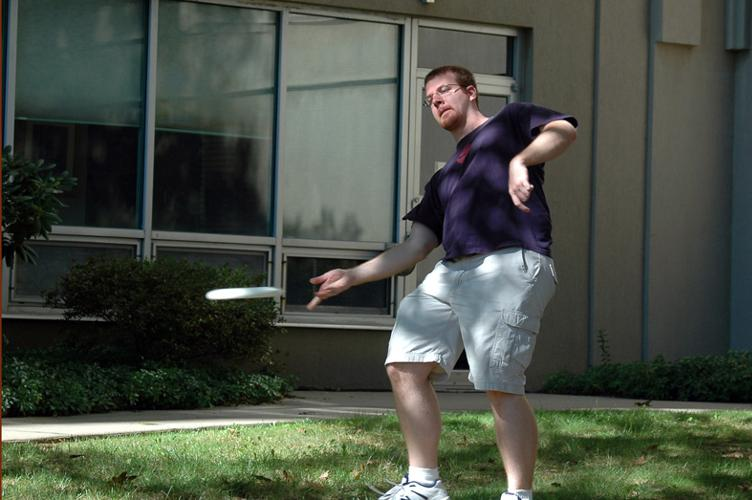person: (310, 64, 579, 500)
